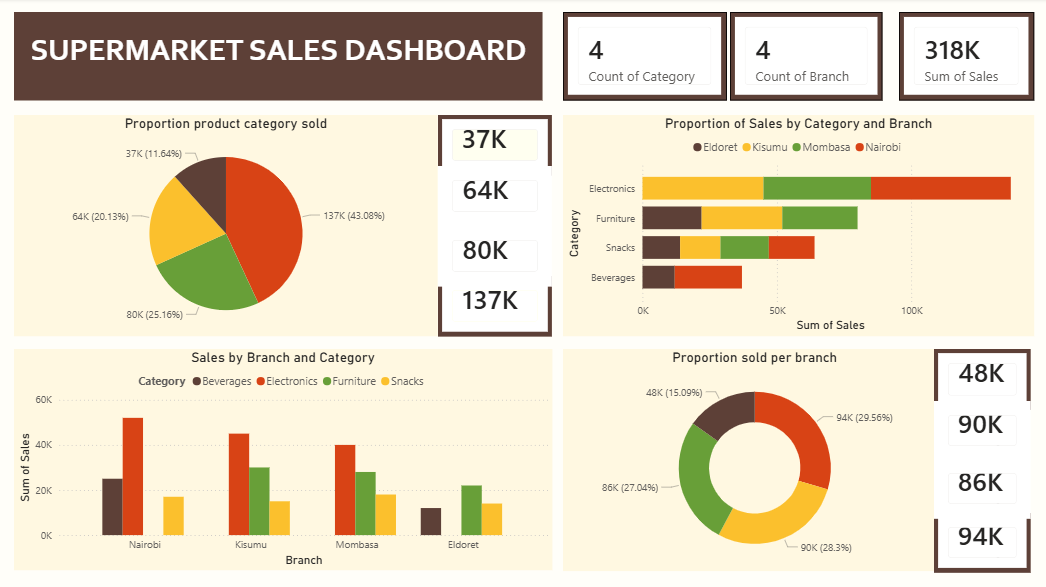

This screenshot's page, from the dashboard's own definition file:
{"tool":"powerbi","page":{"name":"Sales","canvas":[1280,720],"ordinal":0},"visuals":[{"type":"cardVisual","fields":{"Data":["Sum(Sheet1.Sales)"]},"box":[1098.6,16.8,164.6,107.5],"z":0},{"type":"clusteredColumnChart","title":"Sales by Branch and Category","fields":{"Y":["Sum(Sheet1.Sales)"],"Category":["Sheet1.Branch"],"Series":["Sheet1.Category"]},"box":[18.5,428.3,656.8,270.4],"z":1000},{"type":"pieChart","title":"Proportion product category sold","fields":{"Category":["Sheet1.Category"],"Y":["Sum(Sheet1.Sales)"]},"box":[18.5,142.8,517.4,270.4],"z":2000},{"type":"barChart","title":"Proportion of Sales by Category and Branch","fields":{"Y":["Sum(Sheet1.Sales)"],"Category":["Sheet1.Category"],"Series":["Sheet1.Branch"]},"box":[688.2,143.1,575.3,269.8],"z":3000},{"type":"donutChart","title":"Proportion sold per branch","fields":{"Y":["Sum(Sheet1.Sales)"],"Category":["Sheet1.Branch"]},"box":[688.2,428,468,271.1],"z":4000},{"type":"cardVisual","fields":{"Data":["Count(Sheet1.Branch)"]},"box":[892,16.8,186.5,107.5],"z":5000},{"type":"cardVisual","fields":{"Data":["Count(Sheet1.Category)"]},"box":[688.7,16.8,199.9,107.5],"z":6000},{"type":"cardVisual","fields":{"Data":["Sum(Sheet1.Sales)"]},"box":[535.9,142.8,139.4,73.9],"z":7000},{"type":"cardVisual","fields":{"Data":["Sum(Sheet1.Sales)"]},"box":[535.9,339.3,139.4,73.9],"z":8000},{"type":"cardVisual","fields":{"Data":["Sum(Sheet1.Sales)"]},"box":[535.9,278.8,139.4,73.9],"z":9000},{"type":"cardVisual","fields":{"Data":["Sum(Sheet1.Sales)"]},"box":[535.9,204.9,139.4,73.9],"z":10000},{"type":"cardVisual","fields":{"Data":["Sum(Sheet1.Sales)"]},"box":[1141,428,118.4,74.3],"z":11000},{"type":"cardVisual","fields":{"Data":["Sum(Sheet1.Sales)"]},"box":[1141,629,118.4,72.9],"z":12000},{"type":"textbox","box":[18.5,16.8,645,107.5],"z":13000},{"type":"cardVisual","fields":{"Data":["Sum(Sheet1.Sales)"]},"box":[1141,562.9,118.4,72.9],"z":14000},{"type":"cardVisual","fields":{"Data":["Sum(Sheet1.Sales)"]},"box":[1141,491.4,118.4,72.9],"z":15000}]}

Visuals, with their boxes in screenshot pixels (x1, y1, x2, y2), scaled from the page's 1280x720 canvas onto the 1046x587 screenshot:
cardVisual - Sum(Sheet1.Sales): 898:14:1032:101
"Sales by Branch and Category" clusteredColumnChart: 15:349:552:570
"Proportion product category sold" pieChart: 15:116:438:337
"Proportion of Sales by Category and Branch" barChart: 562:117:1033:337
"Proportion sold per branch" donutChart: 562:349:945:570
cardVisual - Count(Sheet1.Branch): 729:14:881:101
cardVisual - Count(Sheet1.Category): 563:14:726:101
cardVisual - Sum(Sheet1.Sales): 438:116:552:177
cardVisual - Sum(Sheet1.Sales): 438:277:552:337
cardVisual - Sum(Sheet1.Sales): 438:227:552:288
cardVisual - Sum(Sheet1.Sales): 438:167:552:227
cardVisual - Sum(Sheet1.Sales): 932:349:1029:410
cardVisual - Sum(Sheet1.Sales): 932:513:1029:572
textbox: 15:14:542:101
cardVisual - Sum(Sheet1.Sales): 932:459:1029:518
cardVisual - Sum(Sheet1.Sales): 932:401:1029:460
